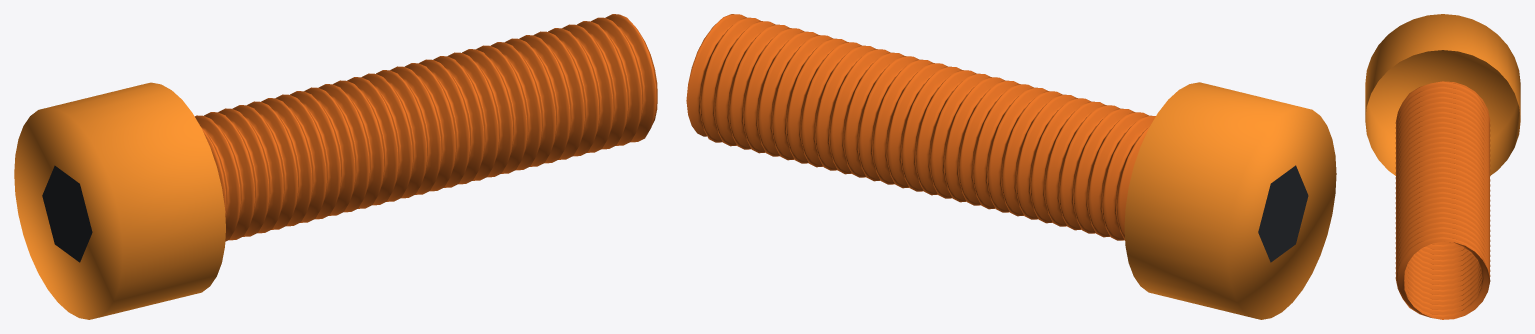
Rendered from socket_bolt_20mm.glb.
3 views of the same model, side by side, from view 1: azimuth 30°, elevation 25°; view 2: azimuth 150°, elevation 25°; view 3: azimuth 270°, elevation 25° (orthographic). The views are drawn at different scales.
Size of the model in its own units: 0.0982 by 0.0328 by 0.0328.
